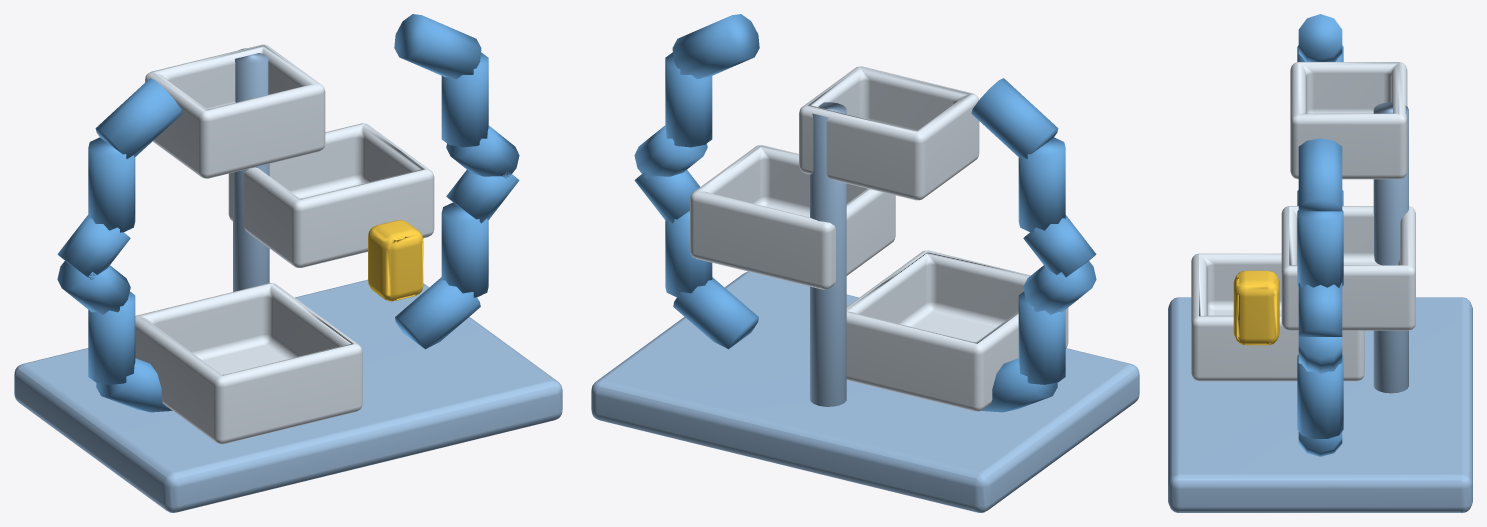
Rendered from pcv_json_nested_bracebox.glb.
The picture shows the model from 3 angles, left to right: view 1: azimuth 30°, elevation 25°; view 2: azimuth 150°, elevation 25°; view 3: azimuth 270°, elevation 25°; orthographic projection. The views are drawn at different scales.
Visible parts, largest first — view 1: pcv_json_nested_bracebox_MOBILE_JOINED; view 2: pcv_json_nested_bracebox_MOBILE_JOINED; view 3: pcv_json_nested_bracebox_MOBILE_JOINED.
Part boxes in pixels (box(x1,y1,x2,y2)): pcv_json_nested_bracebox_MOBILE_JOINED: box(14, 14, 562, 512); pcv_json_nested_bracebox_MOBILE_JOINED: box(591, 14, 1139, 512); pcv_json_nested_bracebox_MOBILE_JOINED: box(1168, 14, 1472, 512).
Bounding box in the file's own units: 1.41 × 1.08 × 0.86.
